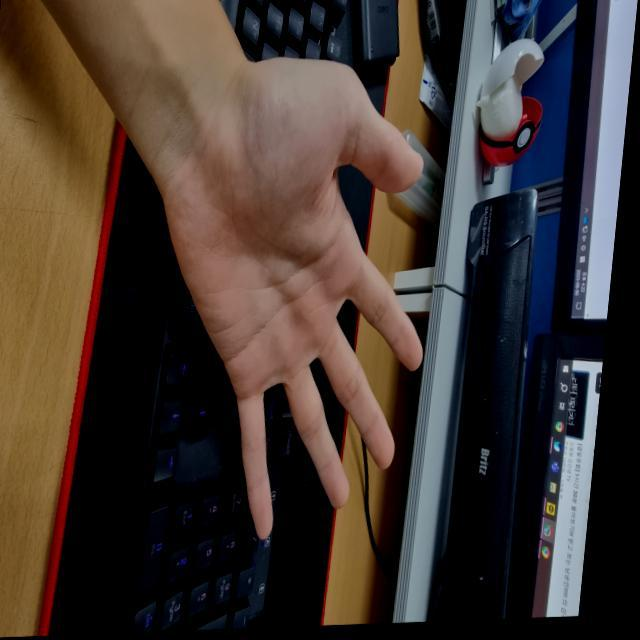keyboard-with-hands: (125, 0, 355, 632)
